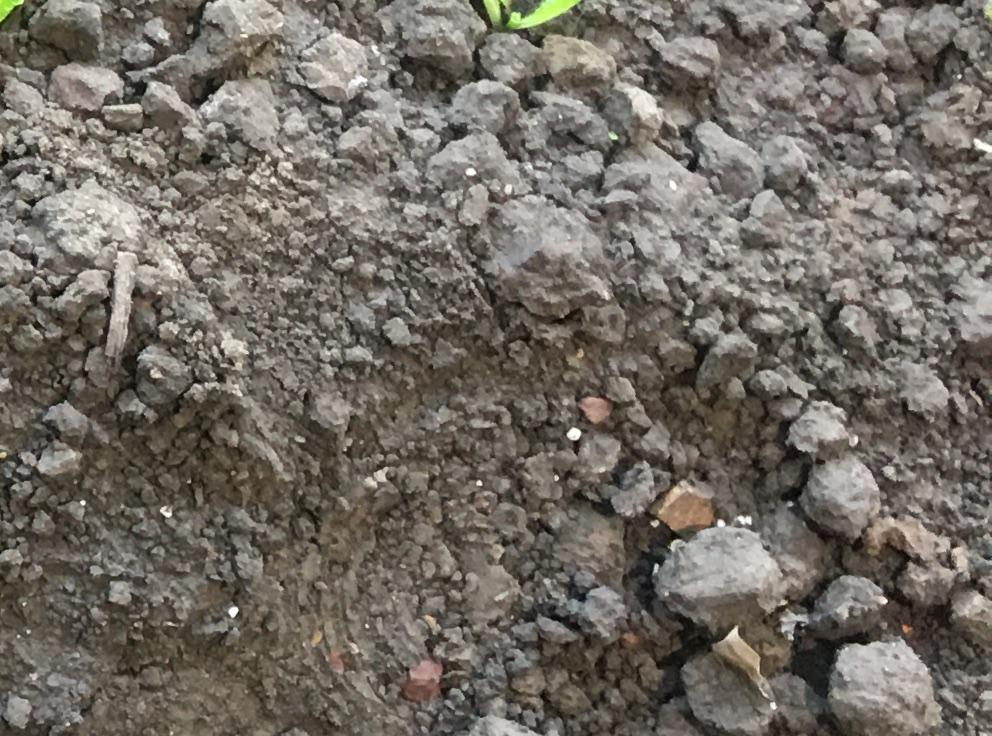block: (485, 195, 612, 319), (651, 526, 783, 627), (815, 635, 939, 736), (804, 453, 880, 543)
